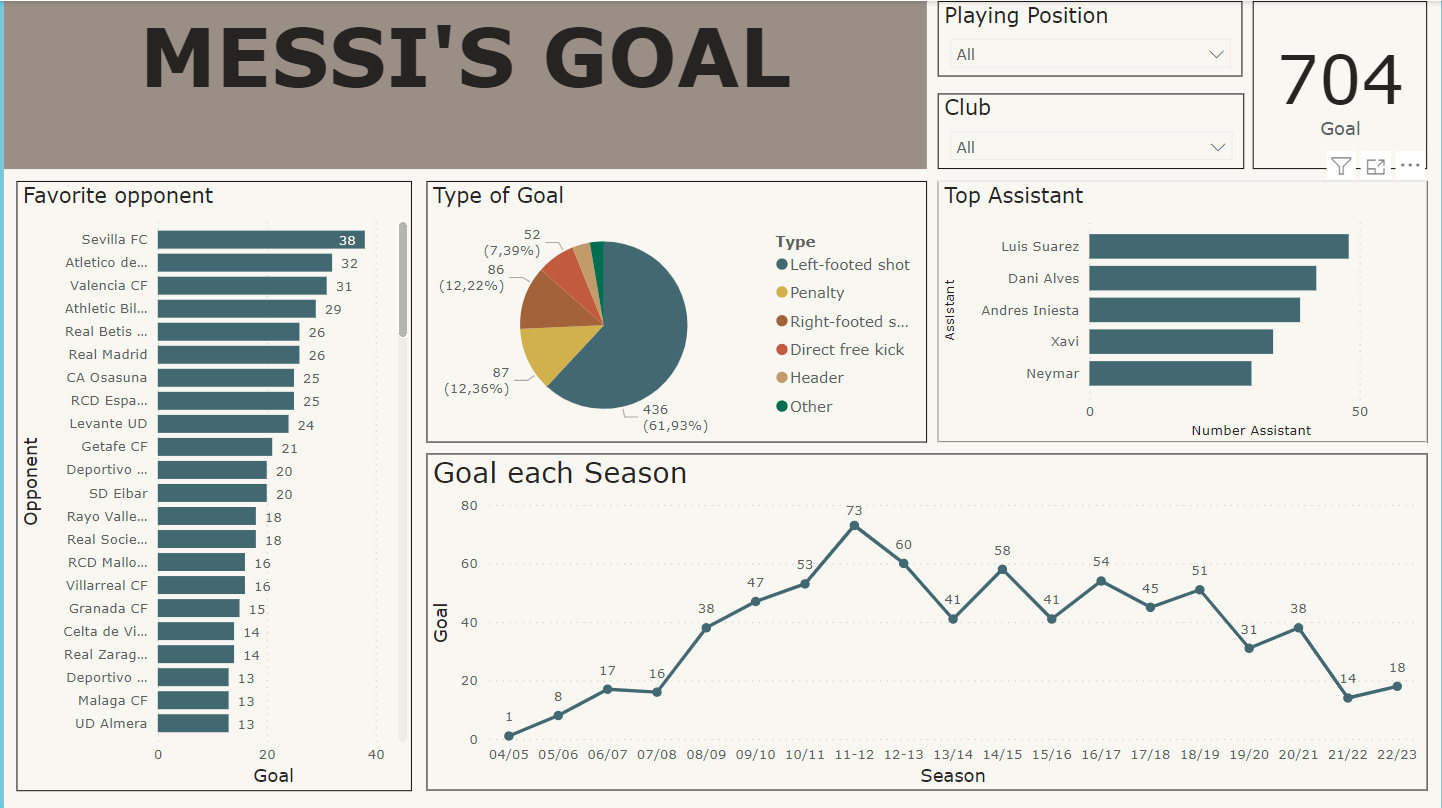

Layout of this report page (visuals, bound fields, positions):
{"tool":"powerbi","page":{"name":"Page 1","canvas":[1280,720],"ordinal":0},"visuals":[{"type":"card","fields":{"Values":["data (1).Minute"]},"box":[1111.9,0,154.9,149.4],"z":0},{"type":"lineChart","title":"Goal each Season","fields":{"Y":["data (1).Minute"],"Category":["data (1).Season"]},"box":[375.7,403.1,891.2,300.3],"z":1000},{"type":"clusteredBarChart","title":"Top Assistant","fields":{"Category":["data (1).Goal_assist"],"Y":["data (1).Minute"]},"box":[830.9,160.4,436,233.1],"z":2000},{"type":"pieChart","title":"Type of Goal","fields":{"Category":["data (1).Type"],"Y":["data (1).Minute"]},"box":[375.7,160.4,445.6,233.1],"z":3000},{"type":"slicer","title":"Playing Position","fields":{"Values":["data (1).Playing_Position"]},"box":[830.9,0,271.5,67.2],"z":4000},{"type":"textbox","box":[0,0,821.3,149.4],"z":5000},{"type":"clusteredBarChart","title":" Favorite opponent","fields":{"Category":["data (1).Opponent"],"Y":["data (1).Minute"]},"box":[11,160.4,352.4,542.9],"z":6000},{"type":"slicer","title":"Club","fields":{"Values":["data (1).Club"]},"box":[830.9,82.3,272.8,67.2],"z":7000}]}

Visuals, with their boxes in screenshot pixels (x1, y1, x2, y2), scaled from the page's 1280x720 canvas onto the 1442x808 screenshot:
card - data (1).Minute: 1253,0,1427,168
"Goal each Season" lineChart: 423,452,1427,789
"Top Assistant" clusteredBarChart: 936,180,1427,442
"Type of Goal" pieChart: 423,180,925,442
"Playing Position" slicer: 936,0,1242,75
textbox: 0,0,925,168
" Favorite opponent" clusteredBarChart: 12,180,409,789
"Club" slicer: 936,92,1243,168
